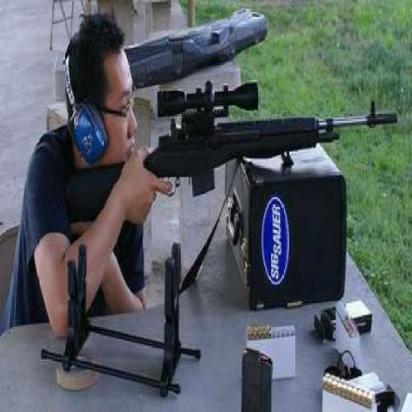Gun: (148, 83, 399, 196)
